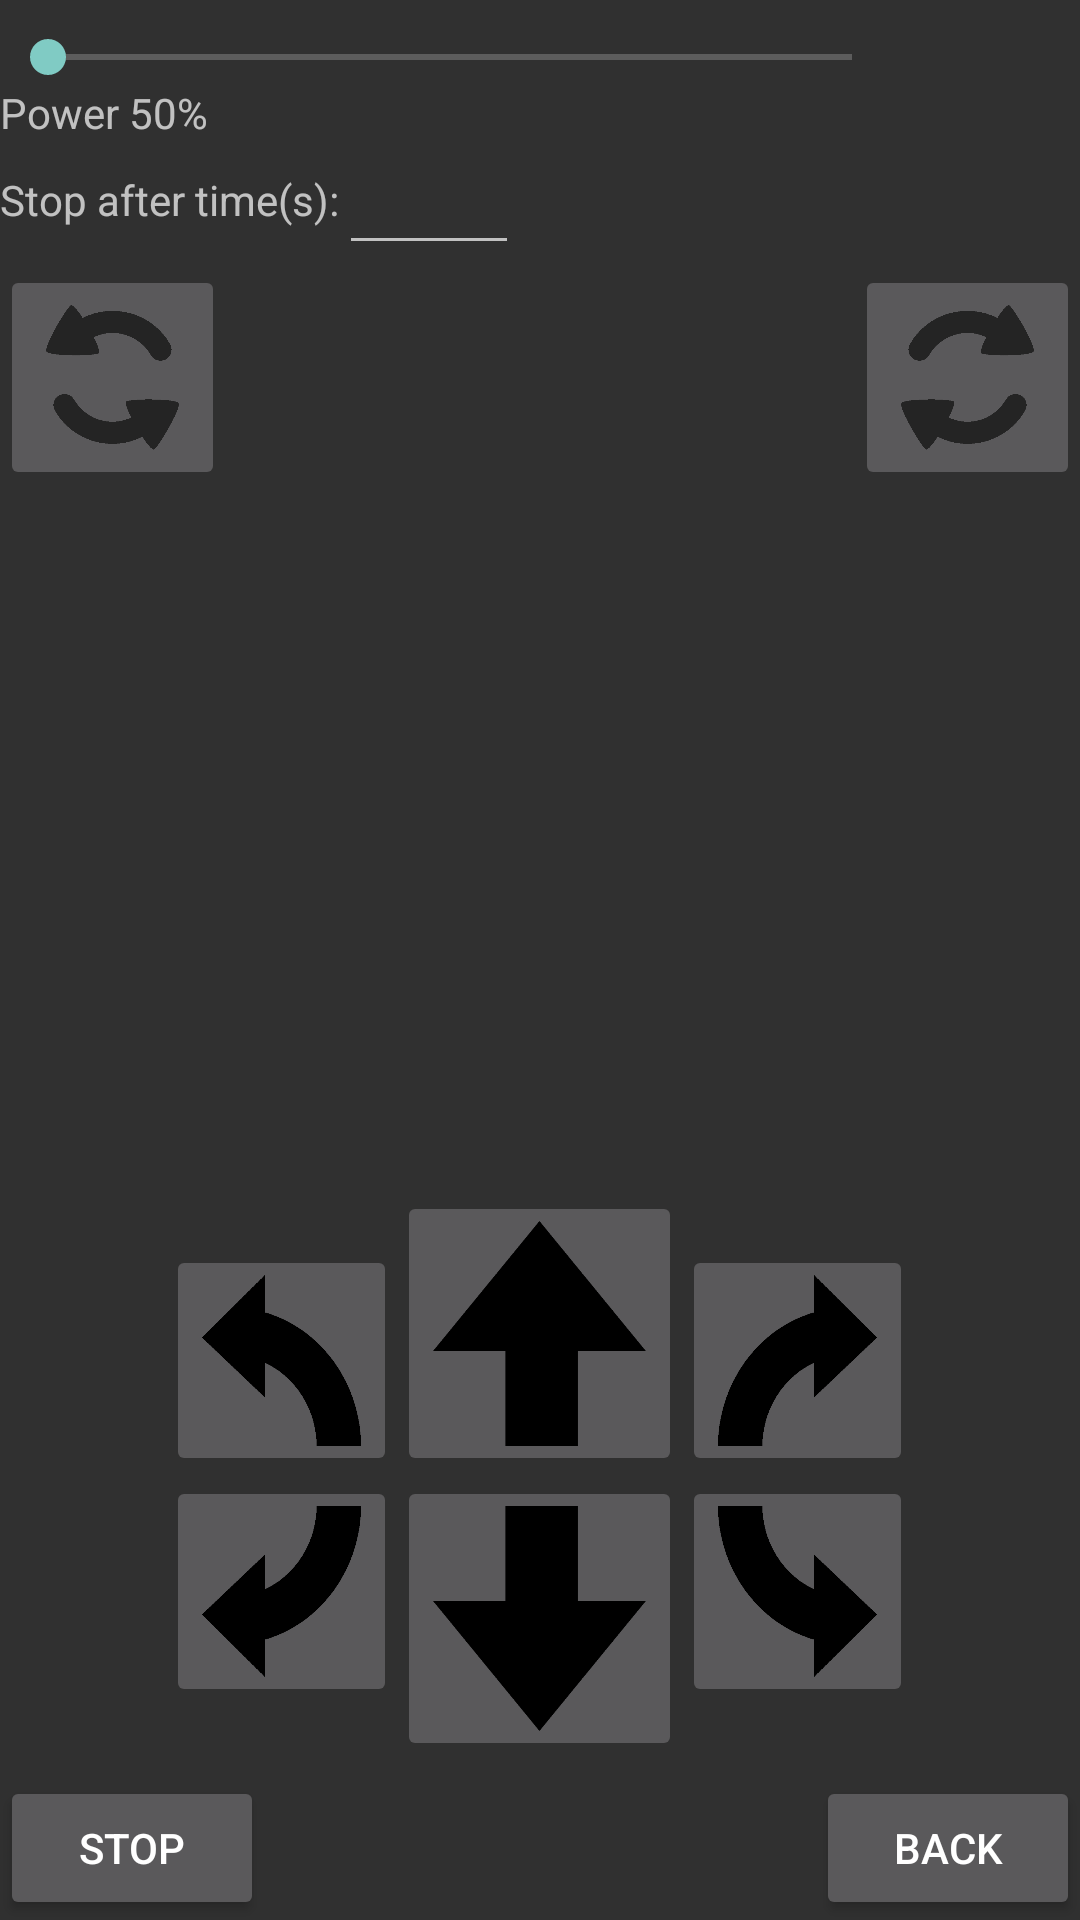

Locate icon controls on the screen. Image size 1080 x 1920, boxes as {"x1": x1, "y1": y1, "x2": x2, "y2": y2}.
go front: {"x1": 409, "y1": 1209, "x2": 670, "y2": 1458}
rotate left: {"x1": 12, "y1": 283, "x2": 213, "y2": 472}
rotate right: {"x1": 867, "y1": 283, "x2": 1068, "y2": 472}
turn back left: {"x1": 178, "y1": 1494, "x2": 385, "y2": 1689}
turn front left: {"x1": 178, "y1": 1263, "x2": 385, "y2": 1458}
turn front right: {"x1": 694, "y1": 1263, "x2": 901, "y2": 1458}
